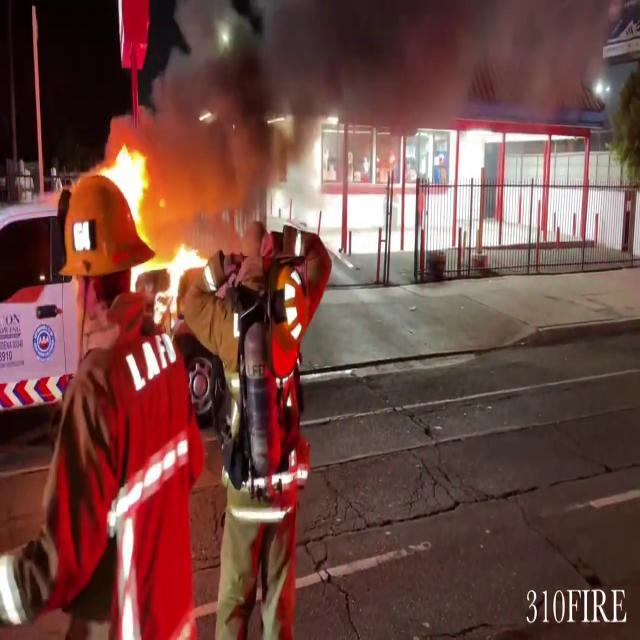Fire: (137, 233, 211, 356), (98, 137, 154, 236)
Smoke: (144, 0, 600, 192)
